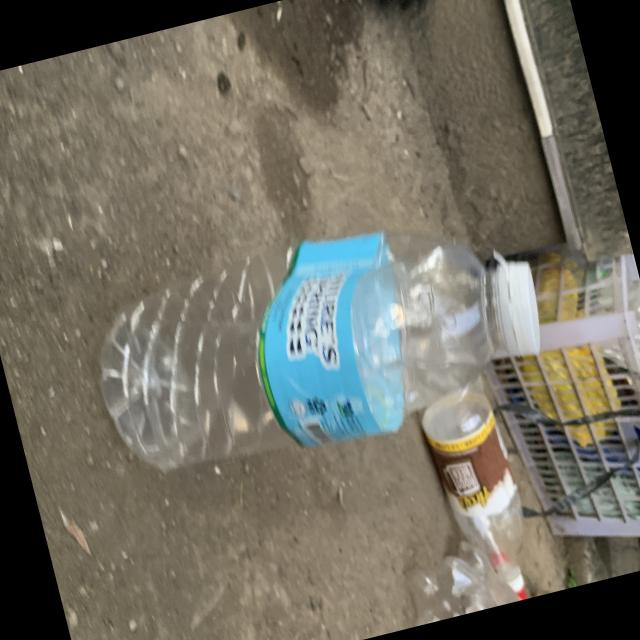Bottle: (99, 232, 539, 471)
